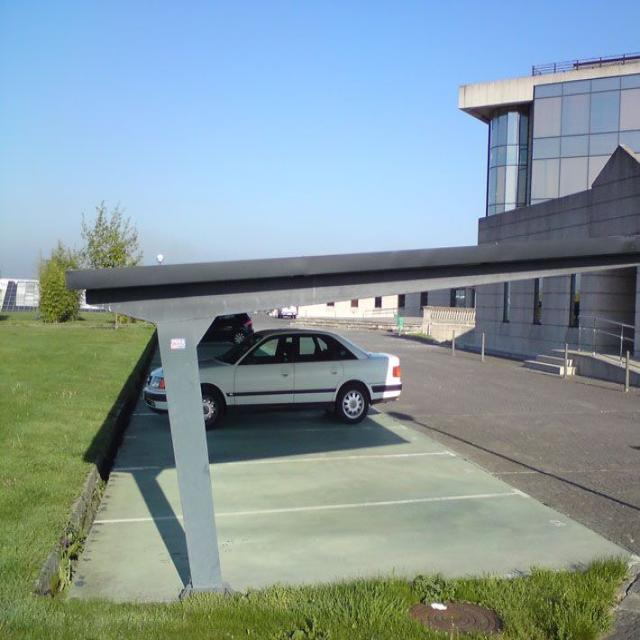libre: (111, 420, 600, 590)
ocupado: (142, 316, 406, 428)
